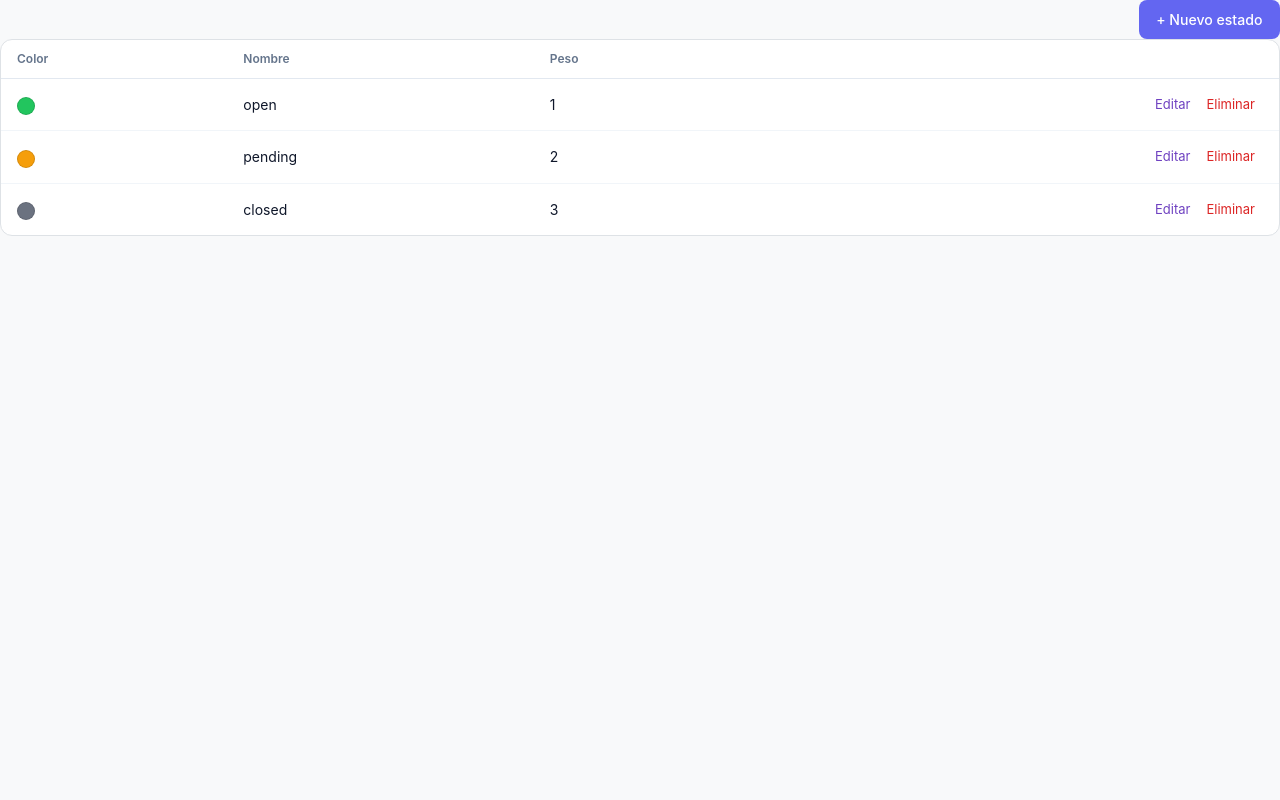
Test: TicketStatusesBody › opens create modal when "+ Nuevo estado" is clicked
Click the button "+ Nuevo estado": (1209, 19) [1138, 0, 1279, 39]
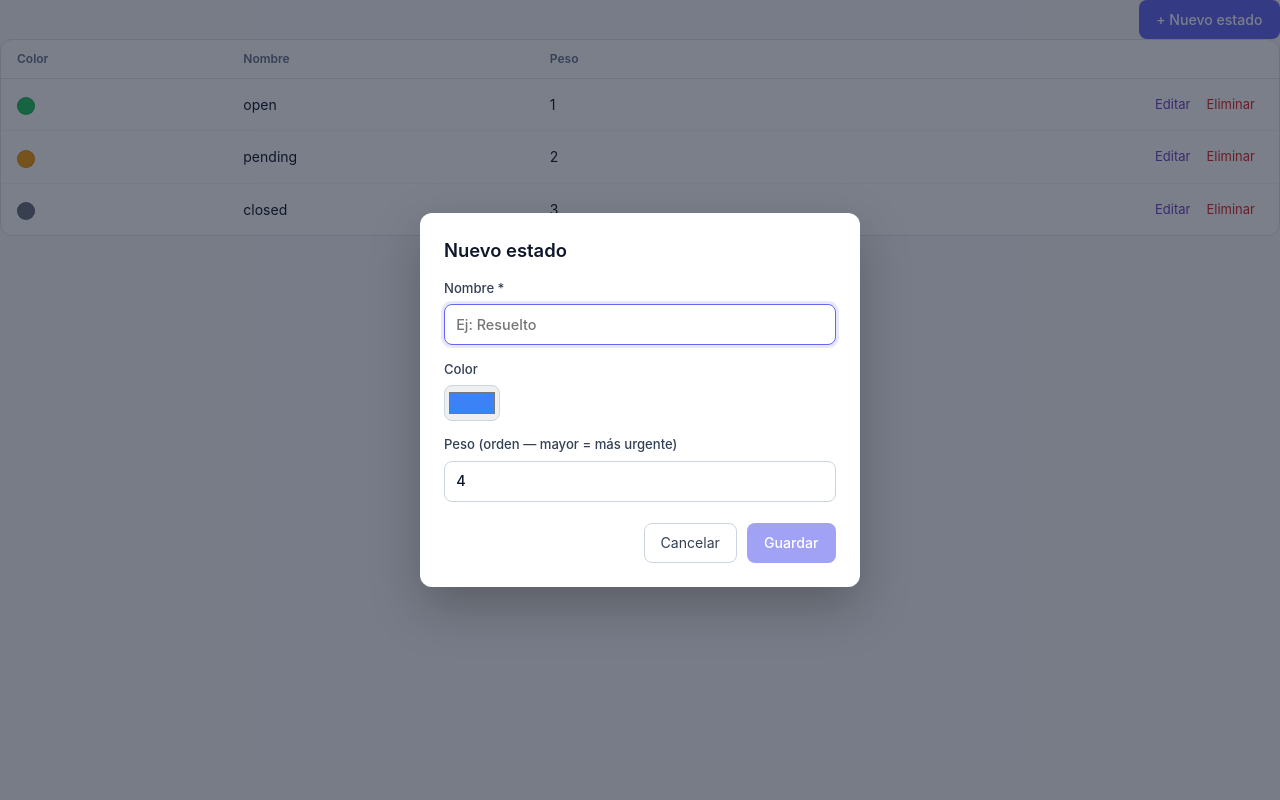
Result: the heading "Nuevo estado" is shown at [444, 239, 567, 261]
